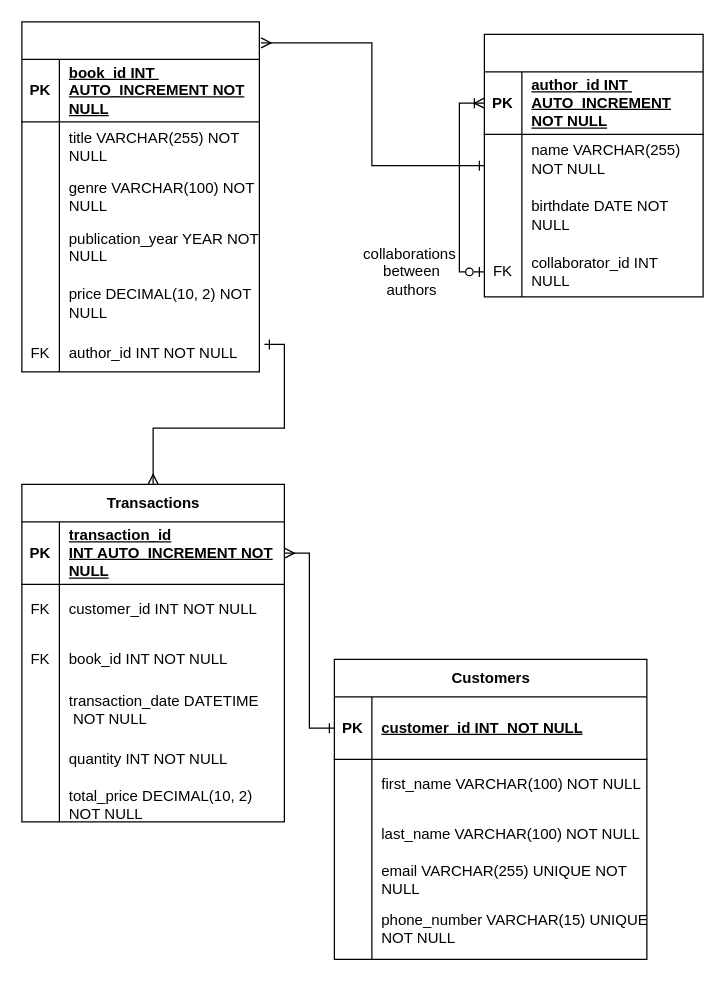
This 725x981 diagram has some shape labels left out. The shapes that lost their labels are listed below. From the top down, each one's box as (x1, y1, x2, y2) in pixels, then its label:
(483, 33, 703, 297): Authors
(21, 21, 259, 372): Books
